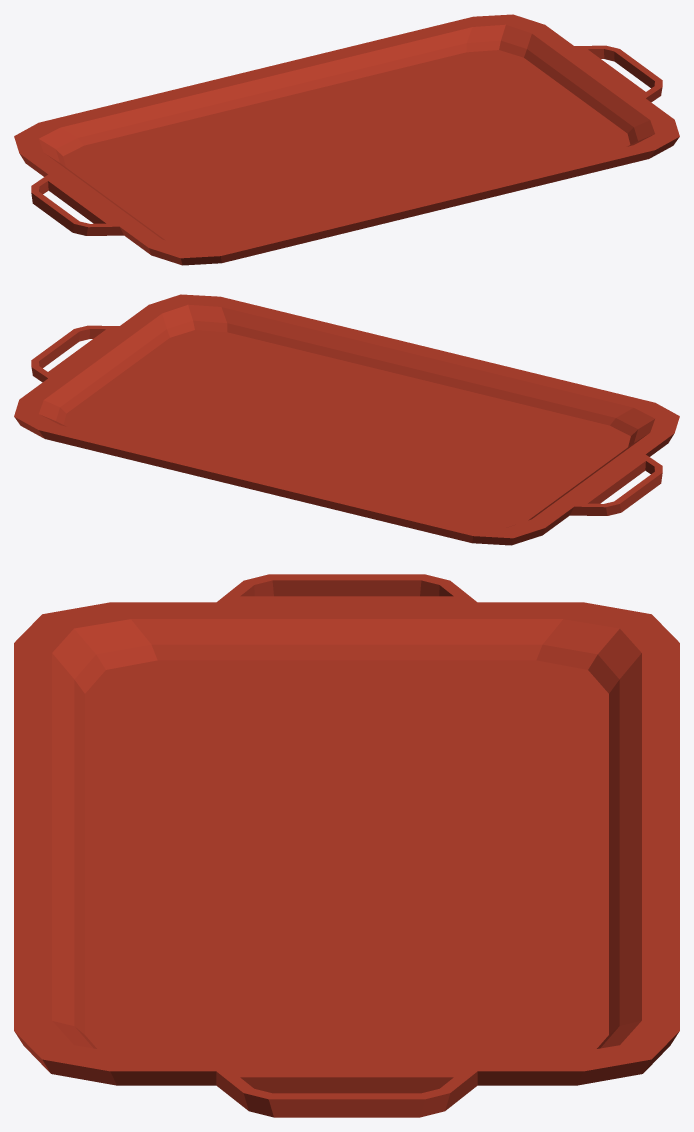
Rendered from Int_KitchenTray01_1.fbx.
3 renders of one model, top to bottom at view 1: azimuth 30°, elevation 25°; view 2: azimuth 150°, elevation 25°; view 3: azimuth 270°, elevation 25°, orthographic. The views are drawn at different scales.
Parts seen in each view (by area): view 1: Int_KitchenTray01_1; view 2: Int_KitchenTray01_1; view 3: Int_KitchenTray01_1.
Boxes of the visible parts, x1,y1,x2,y2 form: Int_KitchenTray01_1: [14, 14, 679, 265]; Int_KitchenTray01_1: [14, 294, 679, 545]; Int_KitchenTray01_1: [14, 574, 679, 1117].
Size of what is drawn, in the model's own units: 112 by 59.99 by 3.6.
